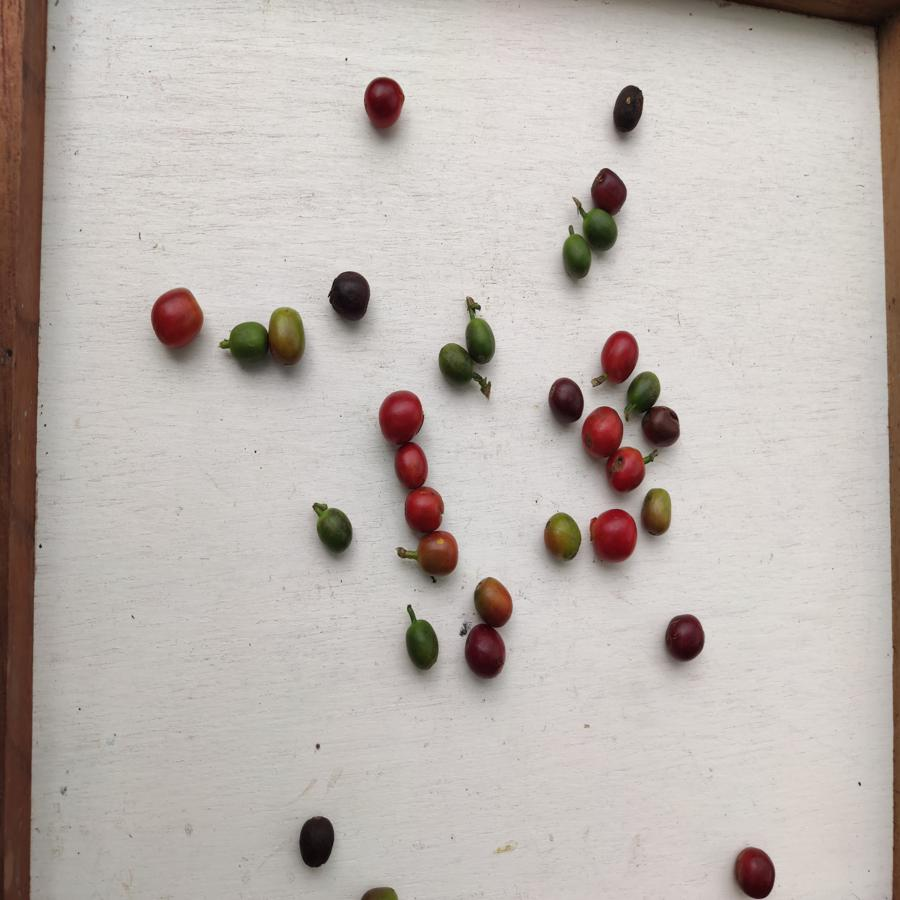Inmaduro: (401, 615, 442, 673), (314, 503, 353, 551), (435, 343, 477, 387), (577, 209, 618, 254), (228, 319, 268, 365), (625, 371, 664, 415), (464, 319, 500, 365), (562, 231, 593, 282)
Maduro: (150, 288, 207, 354), (589, 508, 638, 561), (378, 387, 424, 443), (581, 406, 624, 457), (403, 485, 446, 531), (598, 331, 637, 380), (393, 441, 432, 488), (607, 448, 646, 489)
Pinton: (268, 306, 310, 368), (471, 573, 513, 630), (542, 512, 583, 565), (415, 532, 459, 578), (642, 488, 674, 536)
Sobremaduro: (325, 269, 373, 324), (461, 627, 508, 680), (734, 845, 780, 898), (361, 77, 407, 128), (298, 813, 335, 869), (586, 167, 629, 213), (545, 376, 585, 424), (664, 614, 705, 659), (642, 407, 682, 448), (611, 84, 643, 134)
